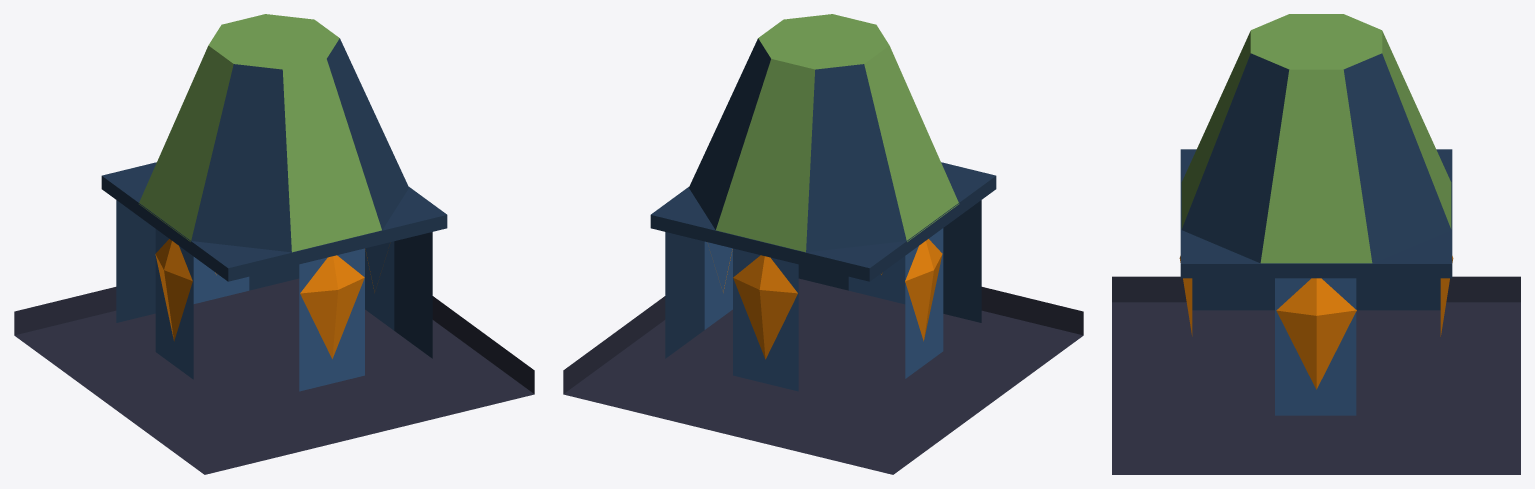
The model's file is 3D_TorreAlchimisti.fbx.
3 views of the same model, side by side, from view 1: azimuth 30°, elevation 25°; view 2: azimuth 150°, elevation 25°; view 3: azimuth 270°, elevation 25° (orthographic). The views are drawn at different scales.
Parts seen in each view (by area): view 1: Base, Colore Torre, Tetto, Strisce Torre, Torre, Plane.001, Gemme; view 2: Base, Colore Torre, Tetto, Strisce Torre, Torre, Plane.001, Gemme; view 3: Base, Colore Torre, Tetto, Plane.001, Strisce Torre, Torre, Gemme.
Part boxes in pixels (bbox=[...]): Base: bbox=[14, 278, 534, 474]; Colore Torre: bbox=[139, 14, 381, 252]; Tetto: bbox=[191, 38, 408, 252]; Strisce Torre: bbox=[155, 229, 394, 391]; Torre: bbox=[116, 200, 432, 358]; Plane.001: bbox=[101, 162, 447, 281]; Gemme: bbox=[155, 239, 380, 358]; Base: bbox=[563, 278, 1083, 474]; Colore Torre: bbox=[716, 14, 959, 252]; Tetto: bbox=[689, 38, 906, 252]; Strisce Torre: bbox=[704, 228, 943, 391]; Torre: bbox=[665, 200, 981, 358]; Plane.001: bbox=[650, 162, 996, 281]; Gemme: bbox=[721, 239, 942, 359]; Base: bbox=[1112, 276, 1520, 474]; Colore Torre: bbox=[1181, 14, 1451, 263]; Tetto: bbox=[1181, 53, 1451, 263]; Plane.001: bbox=[1180, 149, 1452, 278]; Strisce Torre: bbox=[1275, 278, 1356, 415]; Torre: bbox=[1192, 278, 1440, 310]; Gemme: bbox=[1179, 256, 1453, 389].
Size of the model in its own units: 255 by 239 by 255.
